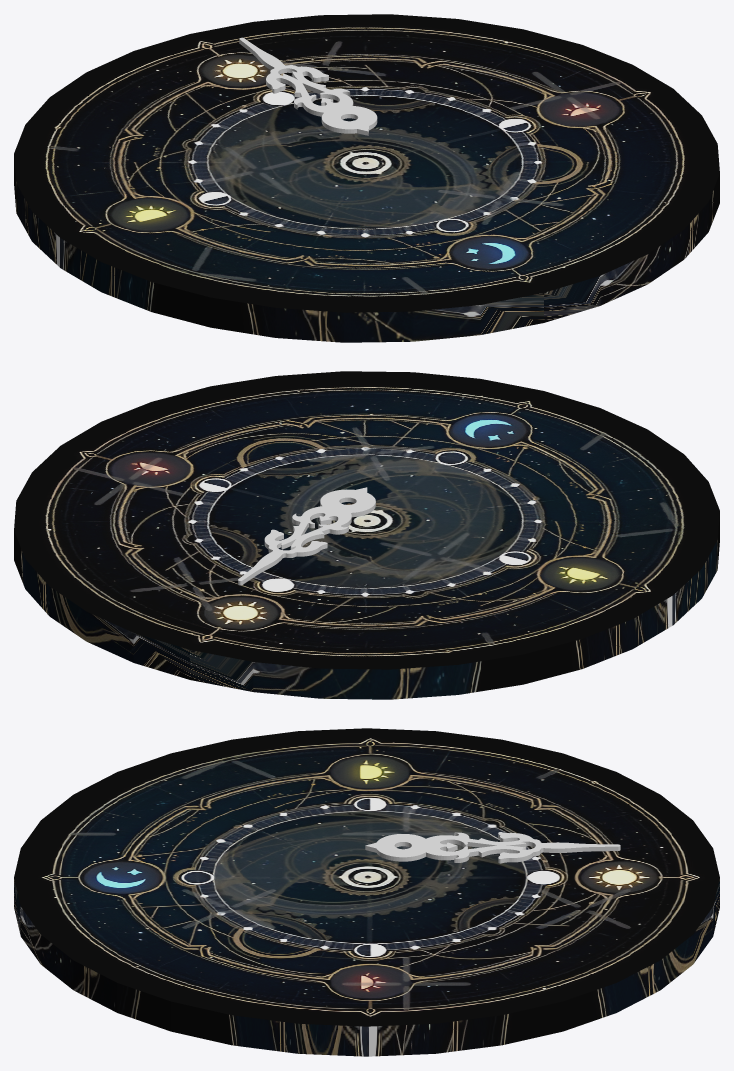
File: clock.glb
3 views of the same model, one above another, from view 1: azimuth 30°, elevation 25°; view 2: azimuth 150°, elevation 25°; view 3: azimuth 270°, elevation 25° (orthographic).
Parts seen in each view (by area): view 1: clock_face, clock_hand; view 2: clock_face, clock_hand; view 3: clock_face, clock_hand.
Boxes of the visible parts, x1,y1,x2,y2 form: clock_face: [14, 14, 719, 342]; clock_hand: [239, 37, 377, 135]; clock_face: [14, 371, 719, 699]; clock_hand: [238, 487, 375, 585]; clock_face: [14, 728, 719, 1056]; clock_hand: [365, 832, 620, 863].
Size of the model in its own units: 3.83 by 0.3731 by 3.83.
2 materials, 1 textured.
